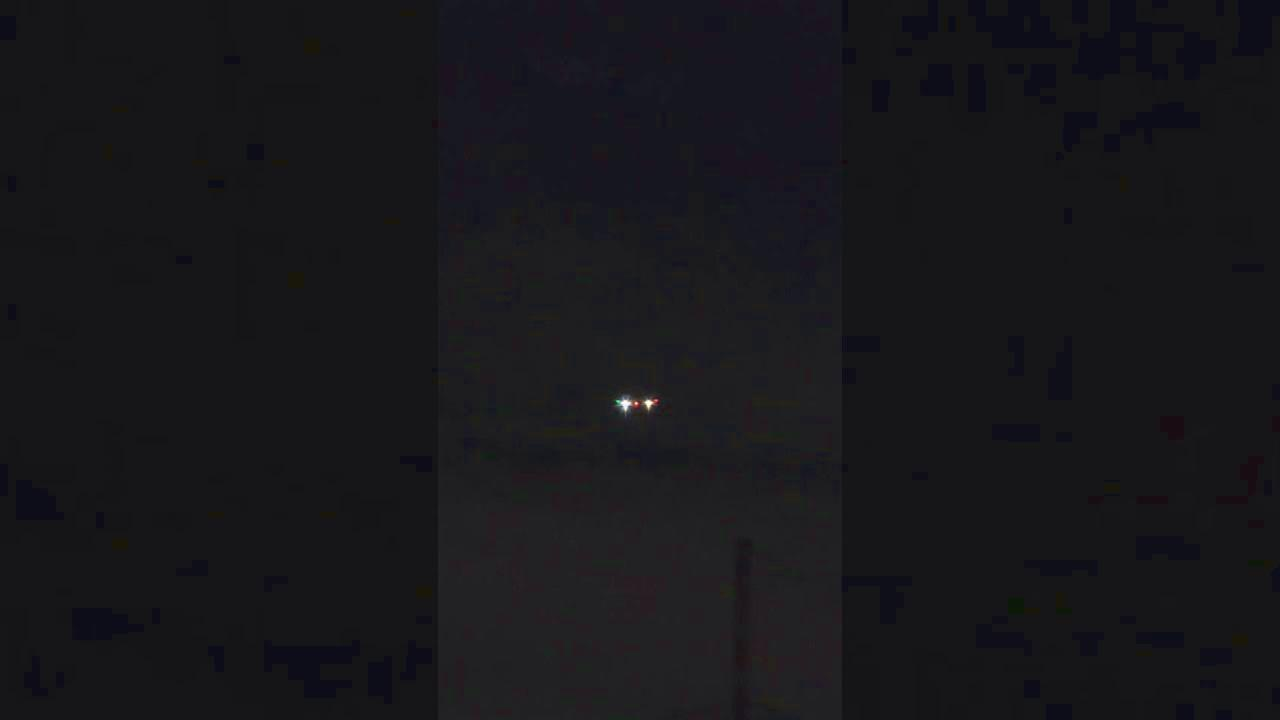Plane: (578, 377, 691, 432)
